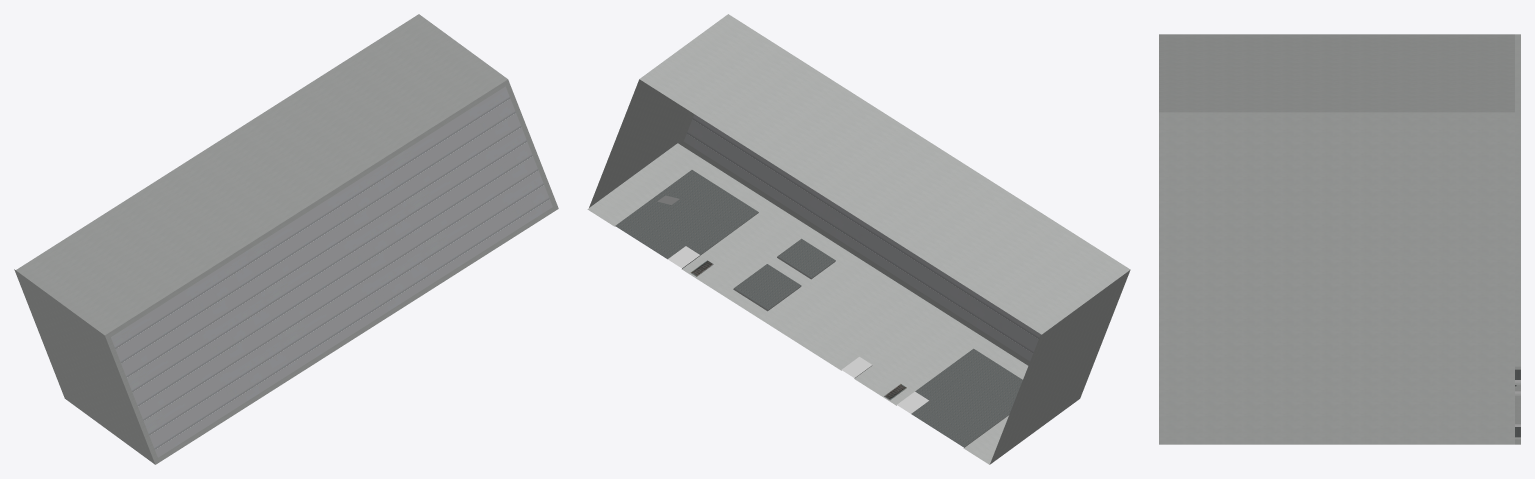
The model's file is Kpst8_2_1.obj.
The picture shows the model from 3 angles, left to right: view 1: azimuth 30°, elevation 25°; view 2: azimuth 150°, elevation 25°; view 3: azimuth 270°, elevation 25°; orthographic projection. The views are drawn at different scales.
Parts seen in each view (by area): view 1: polySurface1; view 2: polySurface1; view 3: polySurface1.
Part boxes in pixels (box(x1,y1,x2,y2)): polySurface1: box(14, 14, 558, 464); polySurface1: box(587, 14, 1130, 464); polySurface1: box(1159, 34, 1520, 444).
Size of the model in its own units: 31.27 by 19.72 by 10.82.
